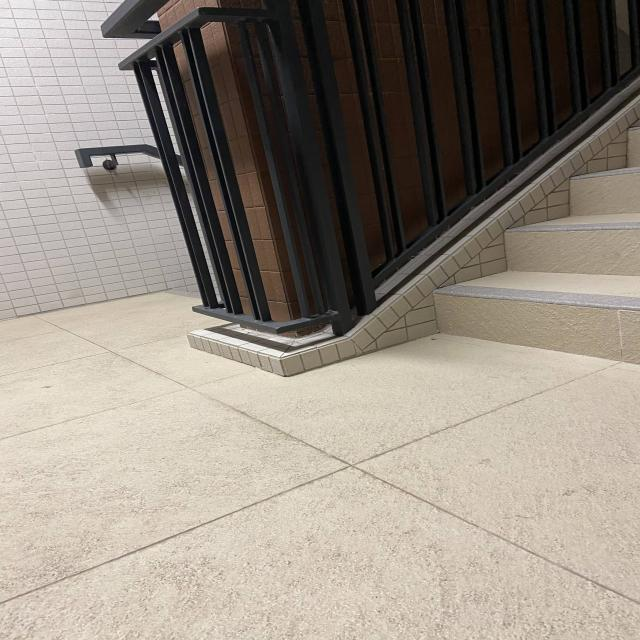Stairs: (420, 132, 640, 370)
